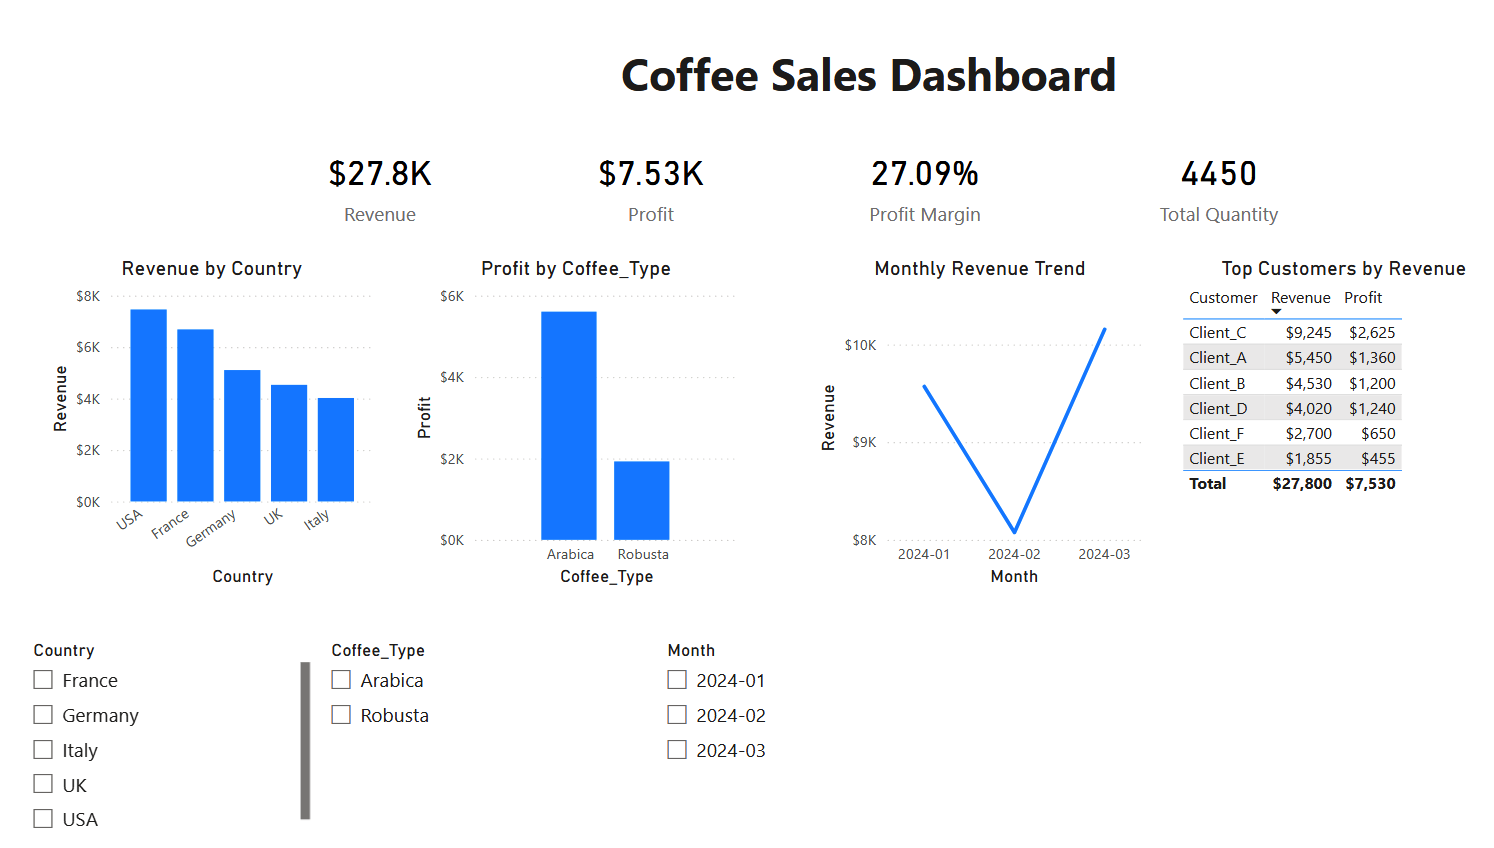

What the dashboard file says about the page in this screenshot:
{"tool":"powerbi","page":{"name":"Page 1","canvas":[1280,720],"ordinal":0},"visuals":[{"type":"card","fields":{"Values":["coffee_sales.Revenue"]},"box":[238.3,116.7,196.7,86.7],"z":0},{"type":"card","fields":{"Values":["coffee_sales.Profit"]},"box":[466.7,116.7,191.7,86.7],"z":1000},{"type":"card","fields":{"Values":["coffee_sales.Profit Margin"]},"box":[683.3,116.7,215,86.7],"z":2000},{"type":"card","fields":{"Values":["coffee_sales.Total Quantity"]},"box":[951.7,116.7,168.3,86.7],"z":3000},{"type":"clusteredColumnChart","fields":{"Category":["coffee_sales.Country"],"Y":["coffee_sales.Revenue"]},"box":[56.7,220,280,280],"z":4000},{"type":"clusteredColumnChart","fields":{"Category":["coffee_sales.Coffee_Type"],"Y":["coffee_sales.Profit"]},"box":[360,220,280,280],"z":5000},{"type":"lineChart","title":"Monthly Revenue Trend","fields":{"Category":["coffee_sales.Month"],"Y":["coffee_sales.Revenue"]},"box":[696.7,220,280,280],"z":6000},{"type":"tableEx","title":"Top Customers by Revenue","fields":{"Values":["coffee_sales.Customer","coffee_sales.Revenue","coffee_sales.Profit"]},"box":[1000,220,280,280],"z":7000},{"type":"slicer","fields":{"Values":["coffee_sales.Country"]},"box":[35,535,248.3,171.7],"z":8000},{"type":"slicer","fields":{"Values":["coffee_sales.Coffee_Type"]},"box":[283.3,535,280,150],"z":9000},{"type":"slicer","fields":{"Values":["coffee_sales.Month"]},"box":[563.3,535,280,118.3],"z":10000},{"type":"textbox","box":[451.7,36.7,585,61.7],"z":11000}]}

Visuals, with their boxes in screenshot pixels (x1, y1, x2, y2), scaled from the page's 1280x720 canvas onto the 1494x848 screenshot:
card - coffee_sales.Revenue: 278:137:508:240
card - coffee_sales.Profit: 545:137:768:240
card - coffee_sales.Profit Margin: 798:137:1048:240
card - coffee_sales.Total Quantity: 1111:137:1307:240
clusteredColumnChart - coffee_sales.Country x coffee_sales.Revenue: 66:259:393:589
clusteredColumnChart - coffee_sales.Coffee_Type x coffee_sales.Profit: 420:259:747:589
"Monthly Revenue Trend" lineChart: 813:259:1140:589
"Top Customers by Revenue" tableEx: 1167:259:1493:589
slicer - coffee_sales.Country: 41:630:331:832
slicer - coffee_sales.Coffee_Type: 331:630:657:807
slicer - coffee_sales.Month: 657:630:984:769
textbox: 527:43:1210:116
